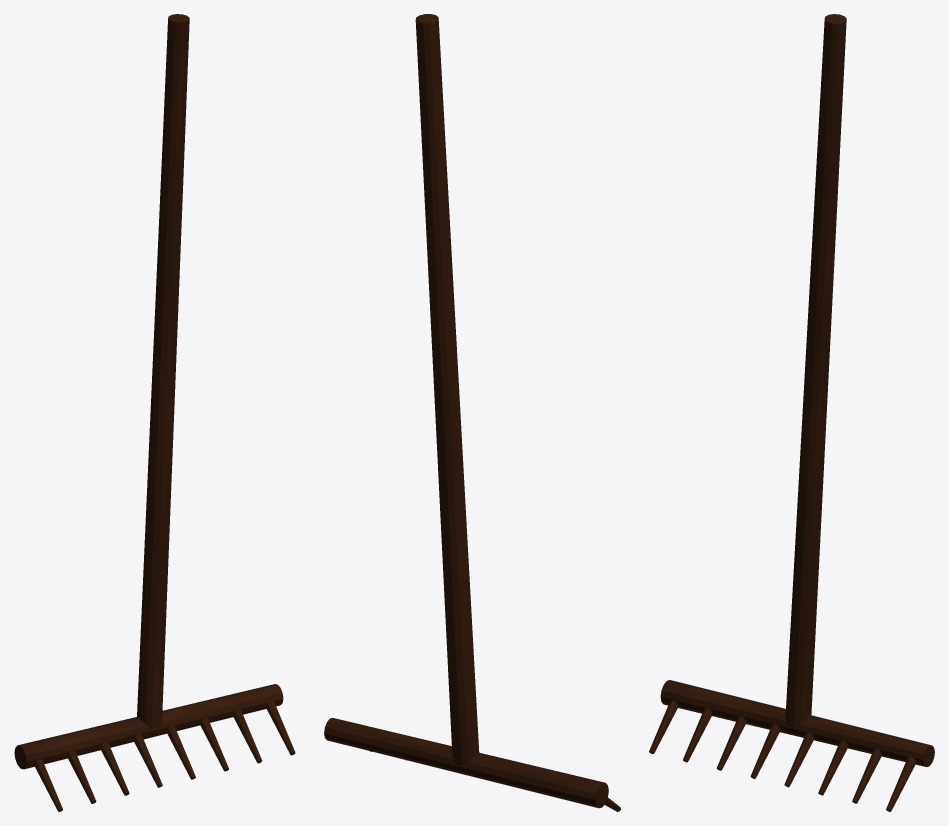
The model's file is rake.glb.
3 views of the same model, side by side, from view 1: azimuth 30°, elevation 25°; view 2: azimuth 150°, elevation 25°; view 3: azimuth 330°, elevation 25° (orthographic). The views are drawn at different scales.
Parts seen in each view (by area): view 1: LongAshShaft, RakeHead; view 2: LongAshShaft, RakeHead; view 3: LongAshShaft, RakeHead.
Part boxes in pixels (x1,y1,x2,y2): LongAshShaft: [137, 14, 189, 728]; RakeHead: [14, 684, 283, 769]; LongAshShaft: [415, 14, 479, 765]; RakeHead: [324, 718, 608, 808]; LongAshShaft: [785, 14, 846, 727]; RakeHead: [660, 680, 934, 766].
Size of the model in its own units: 0.62 by 1.69 by 0.1563.
1 material, 1 textured.
